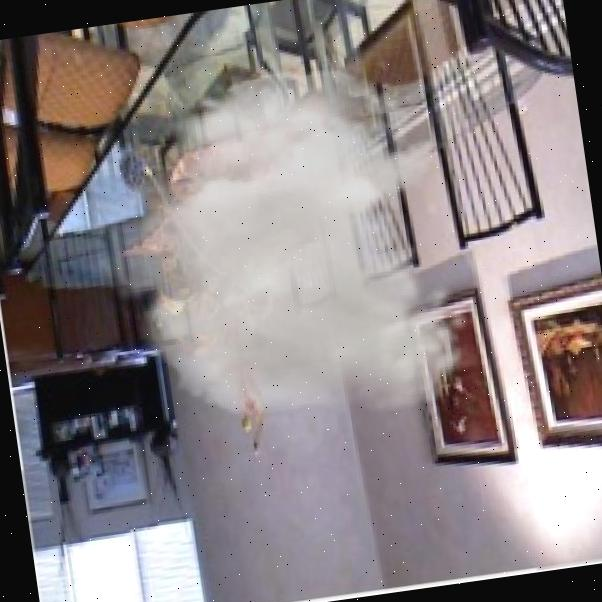smoke: (61, 48, 483, 451)
